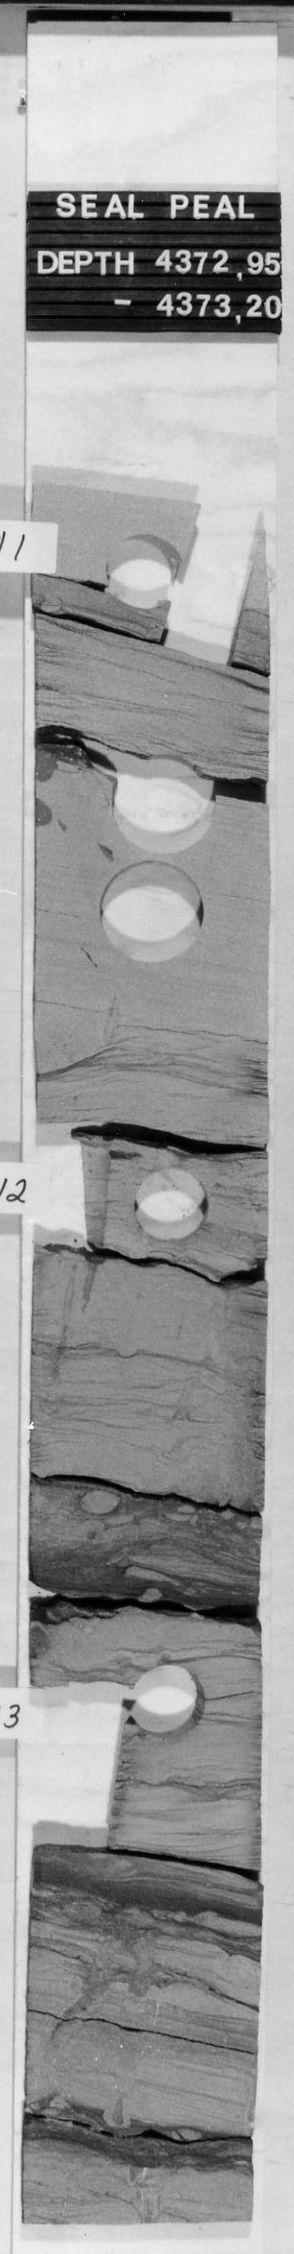hplug: (129, 1159, 222, 1246), (93, 525, 179, 615), (129, 1655, 215, 1744)
scal: (89, 861, 217, 970), (108, 742, 224, 855)
vplug: (36, 1660, 128, 1870), (162, 505, 250, 677), (46, 1113, 122, 1274)
